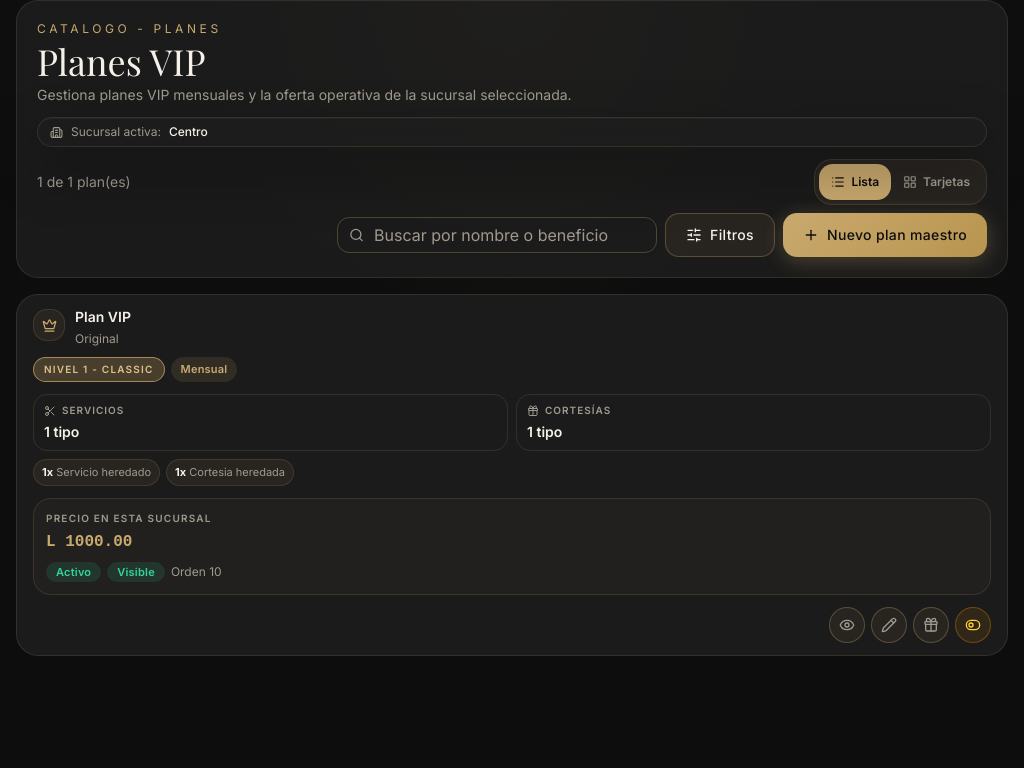
edicion segura de beneficios globales › sin cambios no ejecuta PATCH
The image size is (1024, 768).
Expected: the heading "Plan VIP" is shown, [75,307,131,327]
Click the button named "Editar maestro" at (889, 625), box [871,607,907,643]
(page scrolled)
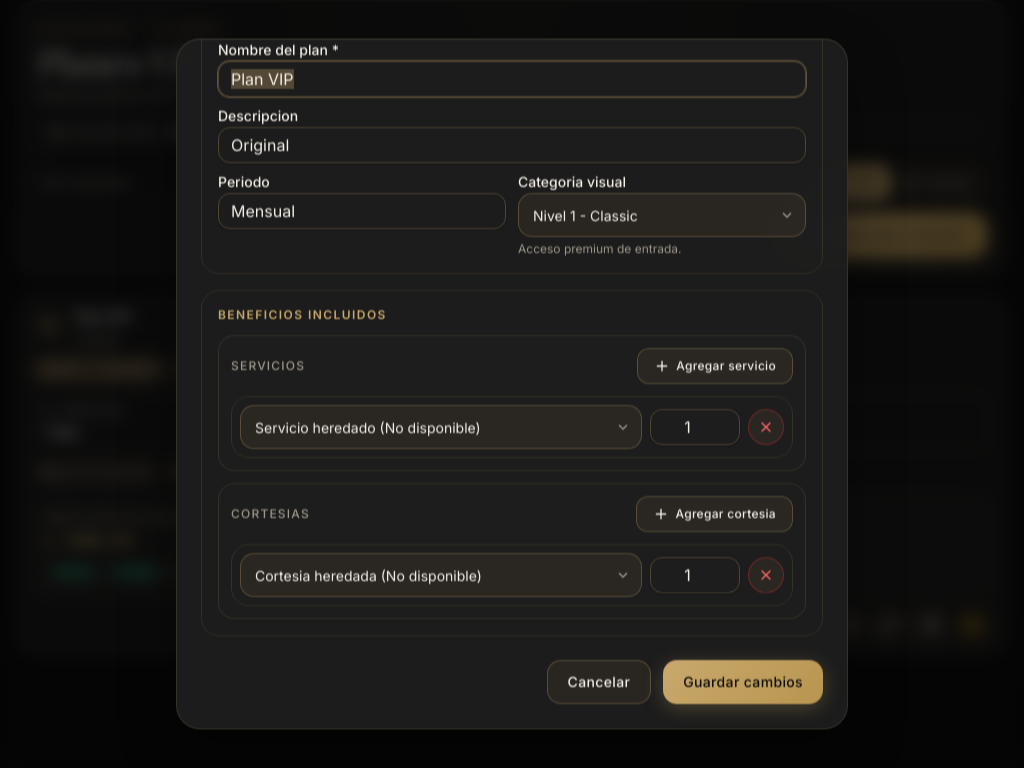
Click the button "Guardar cambios" at (743, 682), box [663,660,823,704]
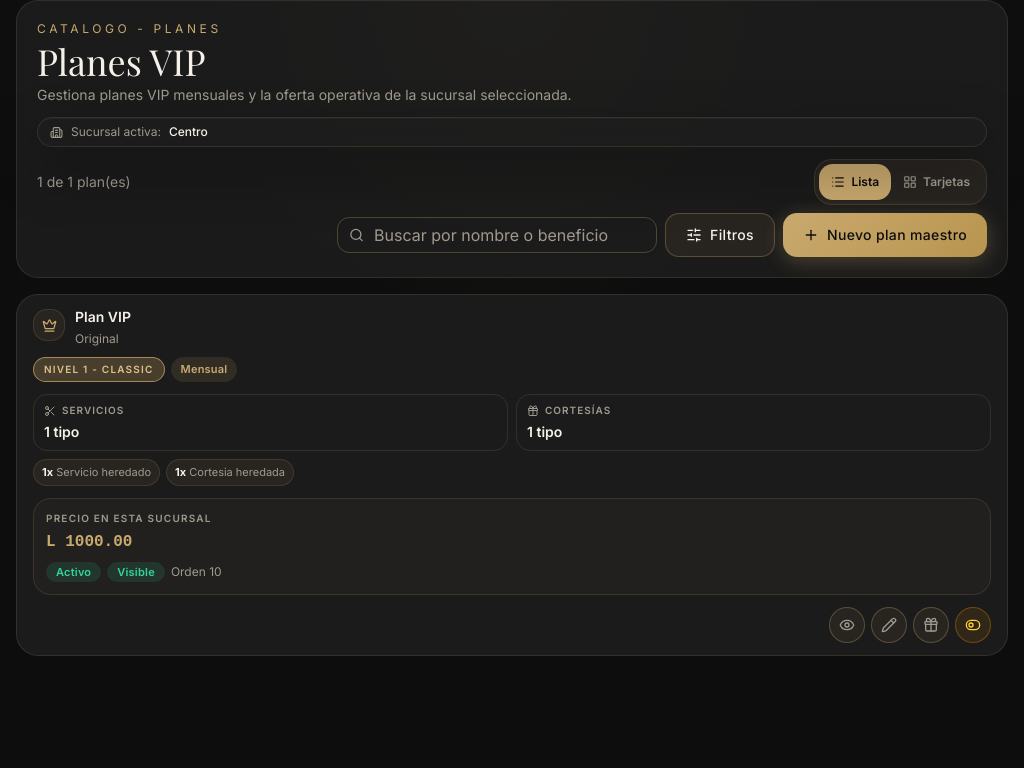
Result: the dialog is gone
